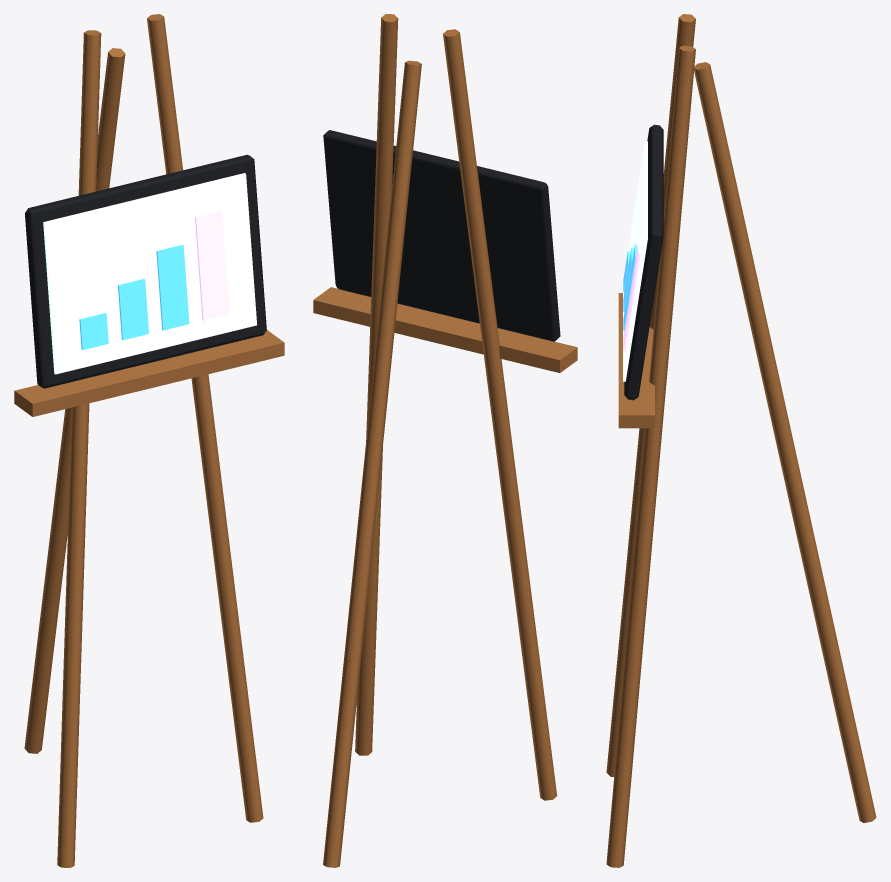
File: station_special_ausstattung_3_1.glb
3 views of the same model, side by side, from view 1: azimuth 30°, elevation 25°; view 2: azimuth 150°, elevation 25°; view 3: azimuth 270°, elevation 25° (orthographic). The views are drawn at different scales.
Visible parts, largest first — view 1: station_special_ausstattung_3_1; view 2: station_special_ausstattung_3_1; view 3: station_special_ausstattung_3_1.
Part boxes in pixels (left/top/right/bottom): station_special_ausstattung_3_1: left=14, top=14, right=284, bottom=867; station_special_ausstattung_3_1: left=313, top=14, right=577, bottom=867; station_special_ausstattung_3_1: left=606, top=14, right=876, bottom=867.
Bounding box in the file's own units: 0.4 × 1.2 × 0.3737.
